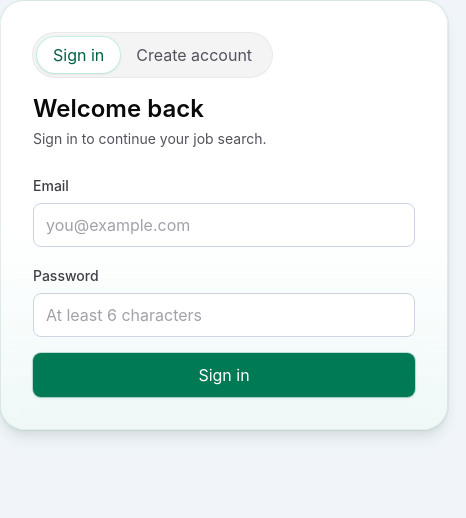
Scenario: LoginForm › shows error message on failed sign-in
The width and height of the screenshot is (466, 518).
Type "user@example.com" into the field labelled "Email" at (224, 225), box [33, 203, 415, 247]
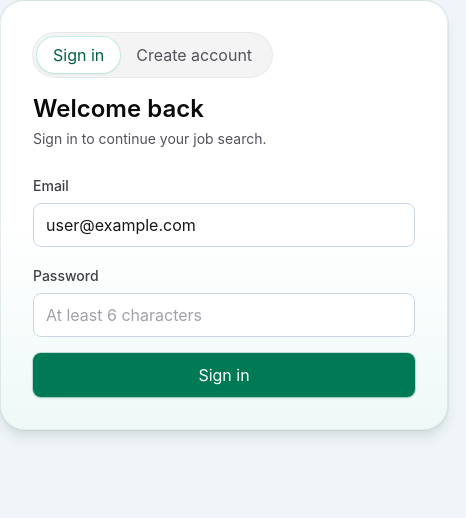
Type "wrong" into the password field labelled "Password" at (224, 315), box [33, 293, 415, 337]
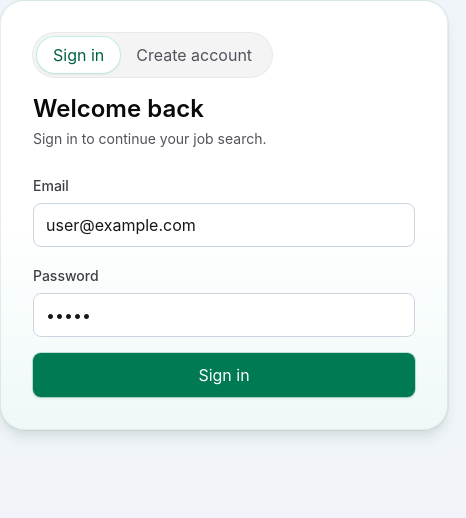
Submit the form, box [33, 173, 415, 397]
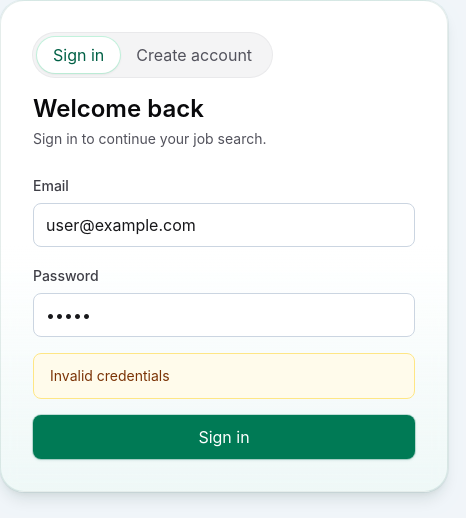
Result: the text "Invalid credentials" is shown at [33, 353, 415, 399]
